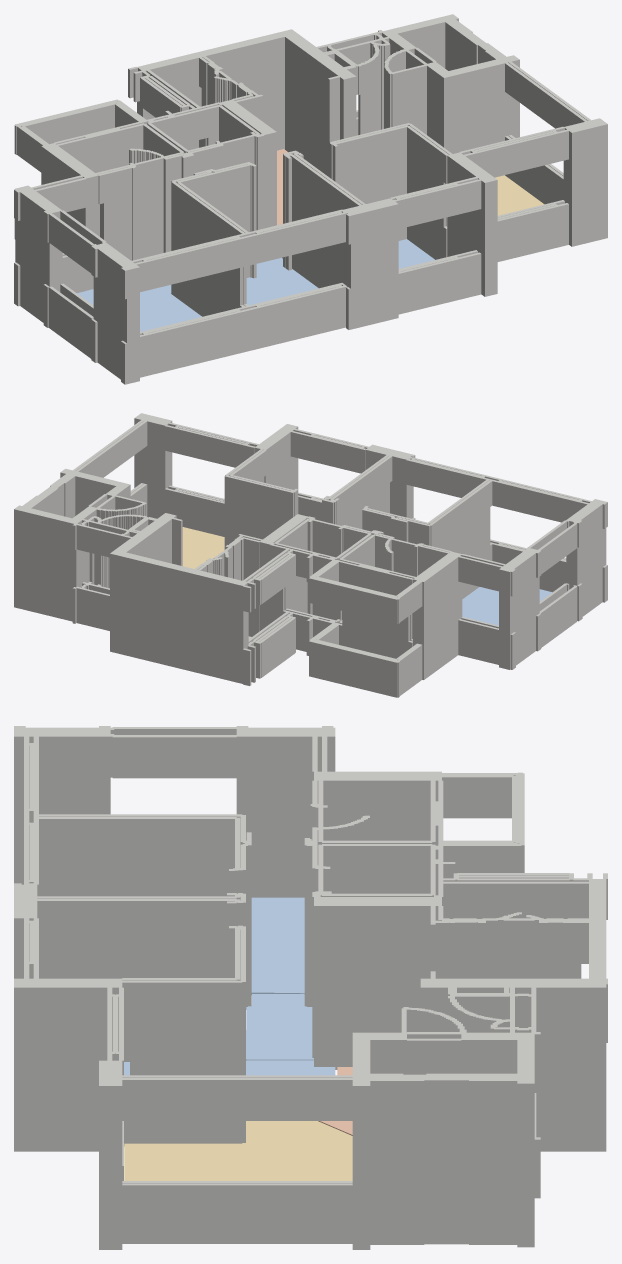
The picture shows the model from 3 angles, top to bottom: view 1: azimuth 30°, elevation 25°; view 2: azimuth 150°, elevation 25°; view 3: azimuth 270°, elevation 25°; orthographic projection. The views are drawn at different scales.
Parts seen in each view (by area): view 1: walls, room:bedroom:1, room:bedroom:3, room:living:2, room:bedroom:0; view 2: walls, room:living:2, room:bedroom:3; view 3: walls, room:living:2, room:bedroom:3, room:bedroom:1, room:bedroom:0.
Part boxes in pixels (bbox=[...]): walls: bbox=[14, 14, 607, 384]; room:bedroom:1: bbox=[246, 257, 318, 305]; room:bedroom:3: bbox=[77, 285, 201, 331]; room:living:2: bbox=[495, 175, 544, 215]; room:bedroom:0: bbox=[282, 239, 434, 268]; walls: bbox=[14, 413, 607, 697]; room:living:2: bbox=[182, 527, 224, 568]; room:bedroom:3: bbox=[462, 587, 552, 625]; walls: bbox=[14, 726, 607, 1249]; room:living:2: bbox=[124, 1121, 352, 1180]; room:bedroom:3: bbox=[251, 897, 304, 994]; room:bedroom:1: bbox=[246, 994, 313, 1060]; room:bedroom:0: bbox=[124, 1060, 335, 1075].
Bounding box in the file's own units: 13.18 × 2.8 × 9.2.
